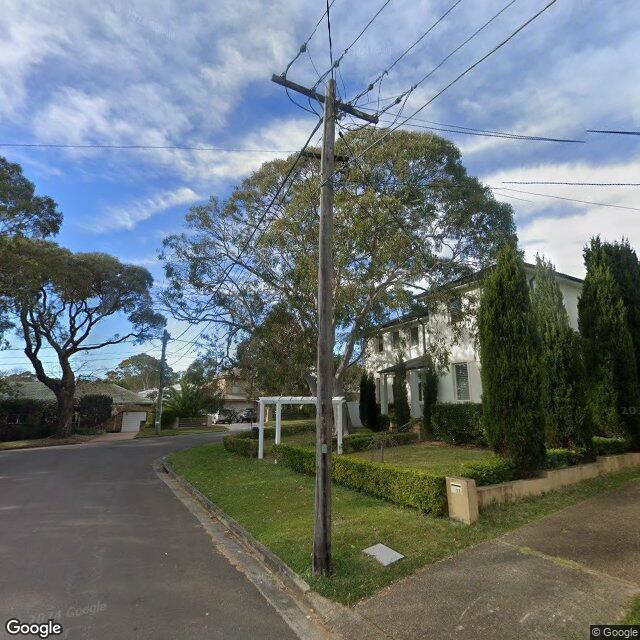crossarm: (270, 72, 380, 126)
timber-pole: (316, 78, 332, 576), (155, 329, 167, 437)
